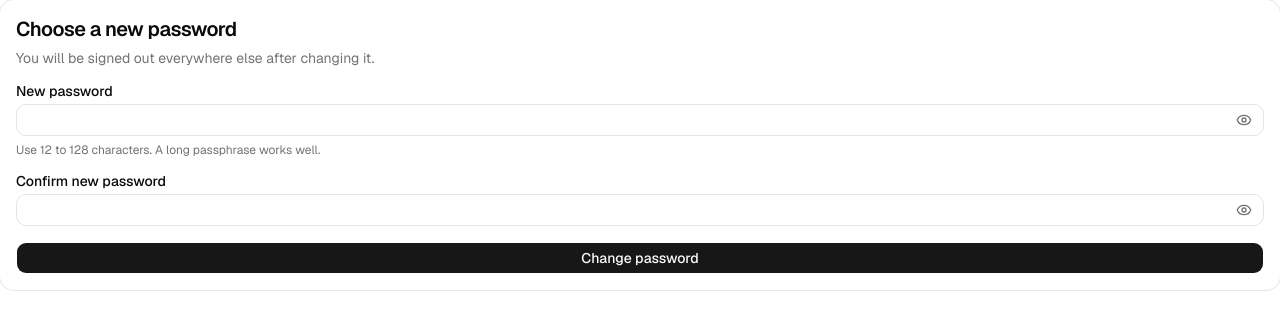
ResetPasswordForm › 400 with a newPassword field error keeps the form (the token is not consumed) and shows the message
Type "a-long-passphrase-123" into the password field labelled "New password" at (640, 120), box x1=16 y1=104 x2=1264 y2=136
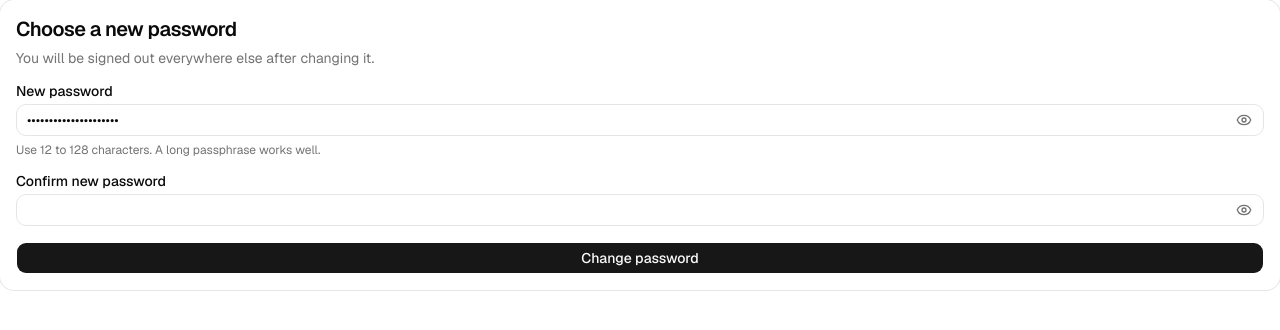
Type "a-long-passphrase-123" into the password field labelled "Confirm new password" at (640, 210), box x1=16 y1=194 x2=1264 y2=226
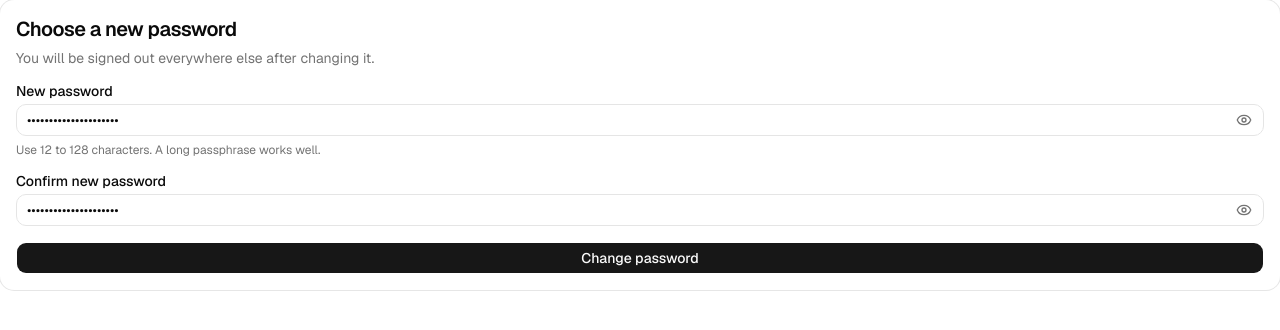
Click the button "Change password" at (640, 258), box x1=16 y1=242 x2=1264 y2=274
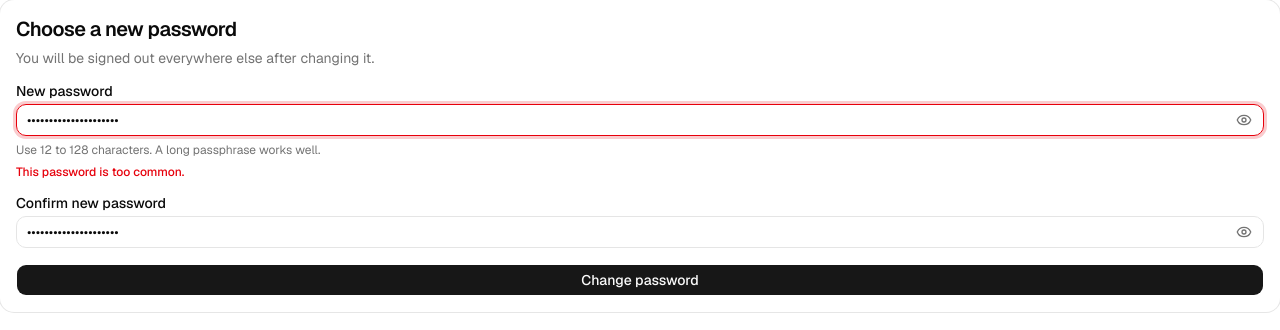
expect the text "This password is too common." is shown: met, box x1=16 y1=164 x2=184 y2=180
